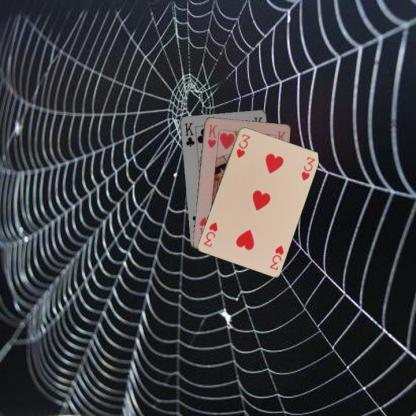3h: (233, 131, 252, 159), (267, 243, 285, 271)
Kc: (182, 120, 195, 148)
Kh: (204, 122, 219, 150)
